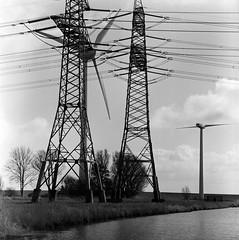power_tower: (31, 0, 105, 205), (111, 0, 168, 201)
